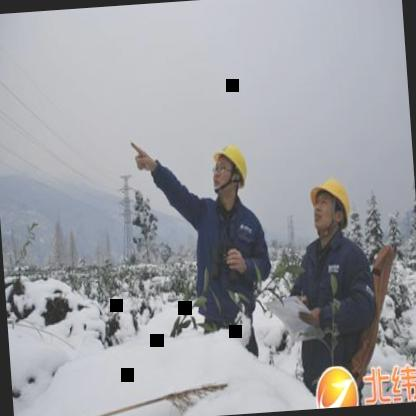helmet: (304, 170, 354, 242), (207, 136, 252, 208)
